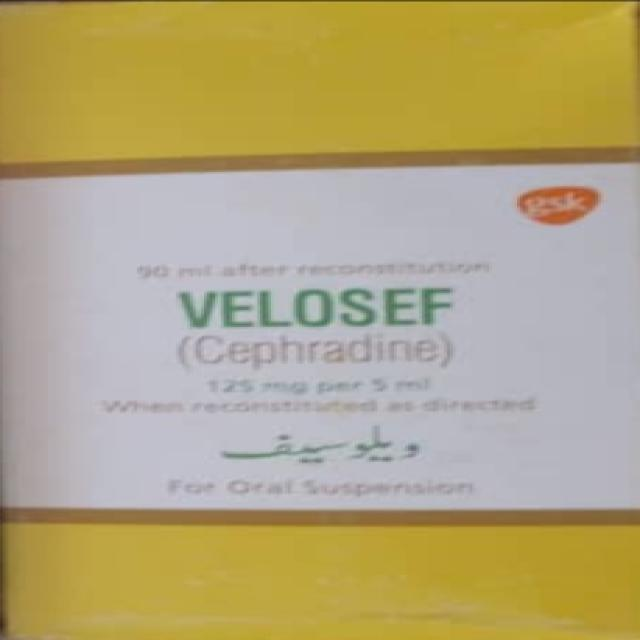drug-name: (175, 284, 455, 327)
